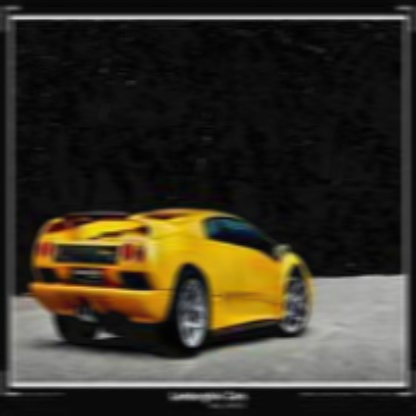Vehicle: (29, 196, 312, 347)
